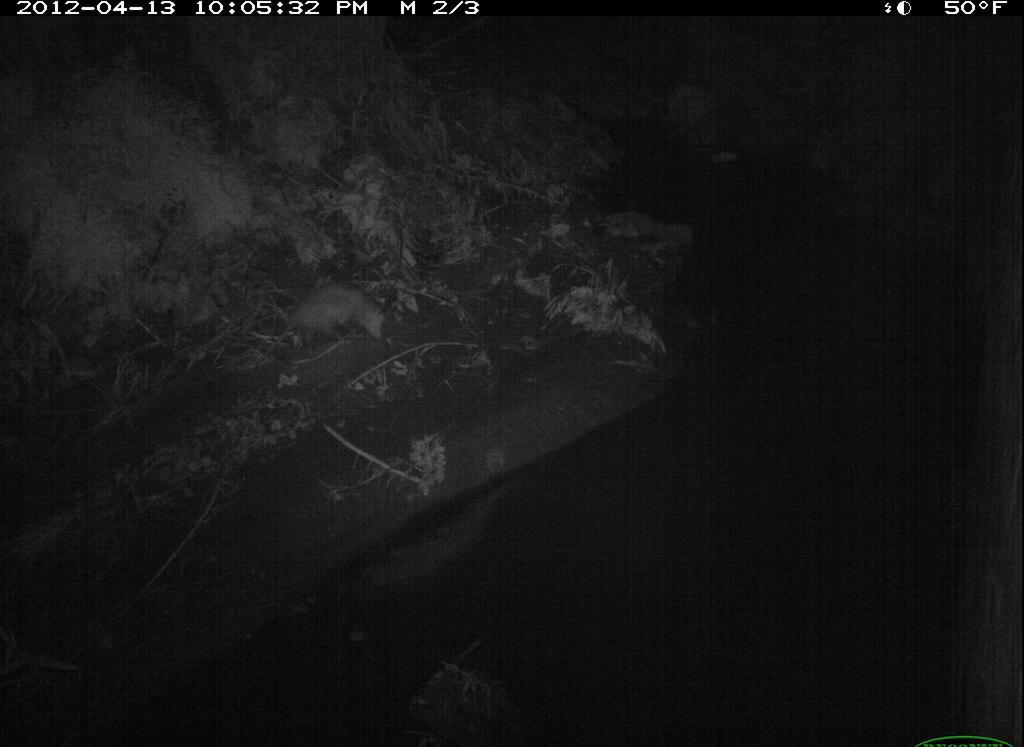opossum: (225, 272, 405, 378)
